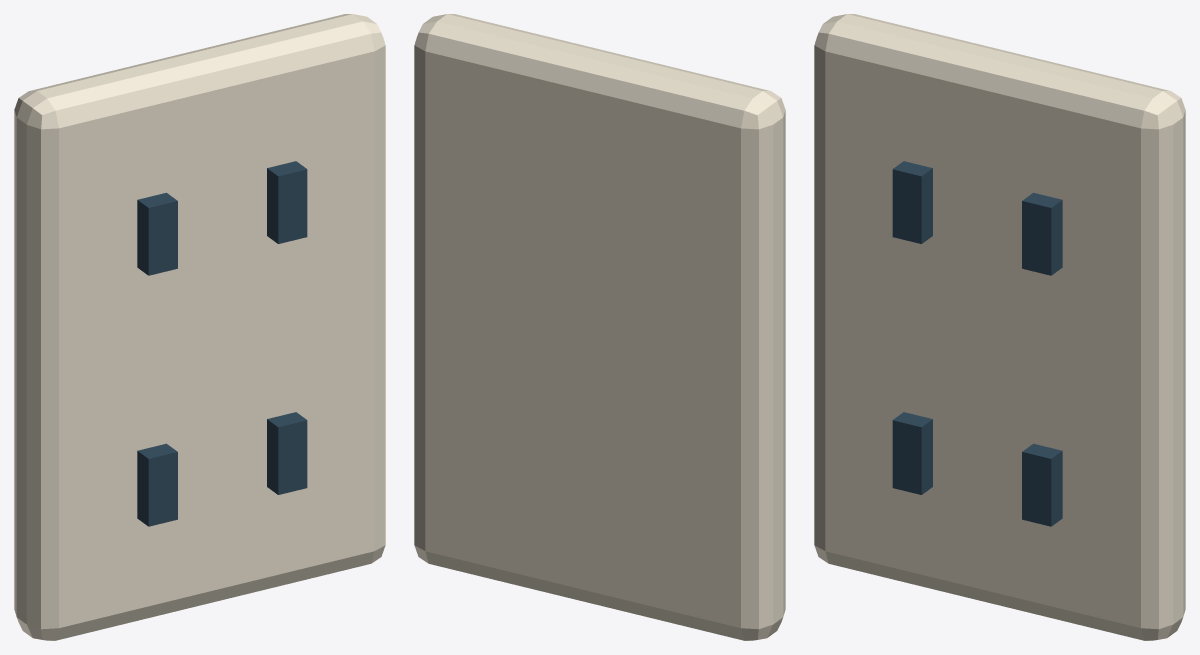
File: outlet.glb
3 renders of one model, left to right at view 1: azimuth 30°, elevation 25°; view 2: azimuth 150°, elevation 25°; view 3: azimuth 330°, elevation 25°, orthographic.
Parts seen in each view (by area): view 1: outlet_Mesh; view 2: outlet_Mesh; view 3: outlet_Mesh.
Part boxes in pixels (box(x1,y1,x2,y2)): outlet_Mesh: box(14, 14, 385, 640); outlet_Mesh: box(414, 14, 785, 640); outlet_Mesh: box(814, 14, 1185, 640).
Size of the model in its own units: 0.11 by 0.16 by 0.024.
